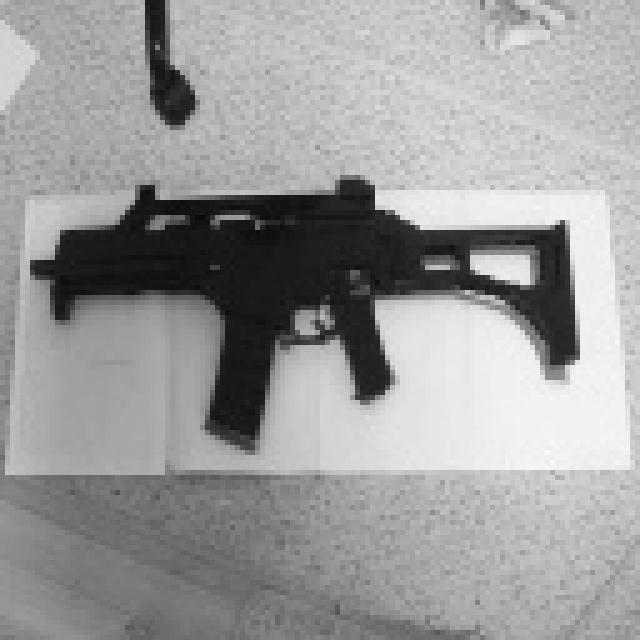Rifle: (24, 158, 617, 484)
